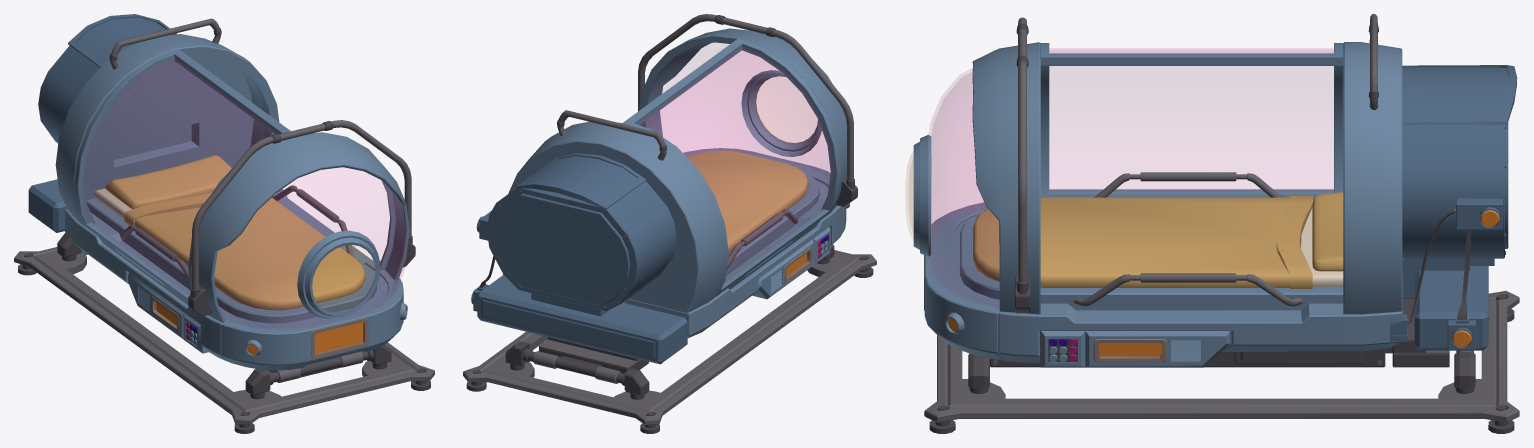
File: SM_Props_Medical_01.fbx
3 views of the same model, side by side, from view 1: azimuth 30°, elevation 25°; view 2: azimuth 150°, elevation 25°; view 3: azimuth 270°, elevation 25° (orthographic). The views are drawn at different scales.
Visible parts, largest first — view 1: SM_Props_Medical_01; view 2: SM_Props_Medical_01; view 3: SM_Props_Medical_01.
Part boxes in pixels (bbox=[...]): SM_Props_Medical_01: bbox=[14, 14, 434, 433]; SM_Props_Medical_01: bbox=[463, 14, 876, 433]; SM_Props_Medical_01: bbox=[908, 14, 1519, 433].
Bounding box in the file's own units: 1.92 × 2.13 × 3.57.
